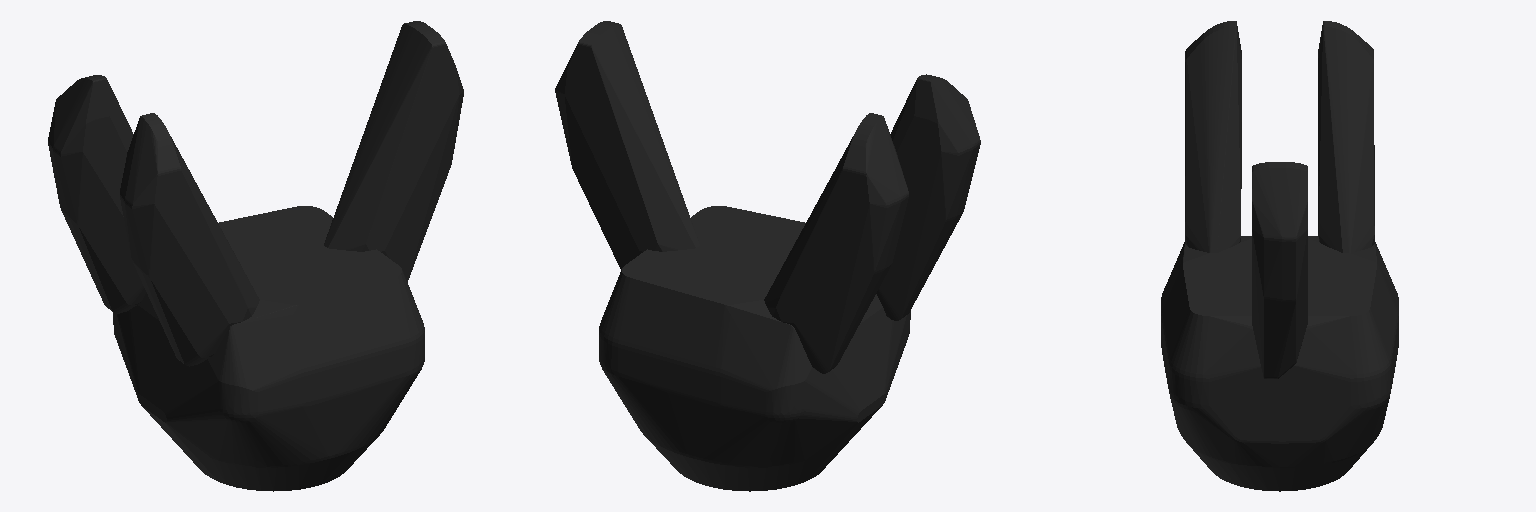
The robot description file, URDF, robot "s-model_mesh":
<?xml version="1.0" ?>
<!-- =================================================================================== -->
<!-- |    This document was autogenerated by xacro from s-model_mesh.xacro             | -->
<!-- |    EDITING THIS FILE BY HAND IS NOT RECOMMENDED                                 | -->
<!-- =================================================================================== -->
<!-- NOTE: THE URDF GENERATED BY THIS FILE DOES NO WORK PROPERLY BECAUSE -->
<!-- IT INCLUDES ONLY FIXED JOINTS (WHICH ARE NOT PUBLISHED BY THE JOINT -->
<!-- STATE PUBLISHER.                                                    -->
<robot name="s-model_mesh" xmlns:xacro="http://ros.org/wiki/xacro">
  <link name="palm">
    <visual>
      <geometry>
        <mesh filename="package://robotiq_description/meshes/s-model/visual/GRIPPER_OPEN_PALM.stl"/>
      </geometry>
      <material name="black">
        <color rgba=".2 .2 .2 1"/>
      </material>
    </visual>
    <collision>
      <geometry>
        <mesh filename="package://robotiq_description/meshes/s-model/collision/GRIPPER_OPEN_PALM.stl"/>
      </geometry>
      <material name="yellow">
        <color rgba="0 1 1 1"/>
      </material>
    </collision>
  </link>
  <link name="finger_1">
    <visual>
      <geometry>
        <mesh filename="package://robotiq_description/meshes/s-model/visual/GRIPPER_OPEN_FINGER_1.stl"/>
      </geometry>
      <material name="black"/>
    </visual>
    <collision>
      <geometry>
        <mesh filename="package://robotiq_description/meshes/s-model/collision/GRIPPER_OPEN_FINGER_1.stl"/>
      </geometry>
      <material name="yellow"/>
    </collision>
  </link>
  <link name="finger_2">
    <visual>
      <geometry>
        <mesh filename="package://robotiq_description/meshes/s-model/visual/GRIPPER_OPEN_FINGER_2.stl"/>
      </geometry>
      <material name="black"/>
    </visual>
    <collision>
      <geometry>
        <mesh filename="package://robotiq_description/meshes/s-model/collision/GRIPPER_OPEN_FINGER_2.stl"/>
      </geometry>
      <material name="yellow"/>
    </collision>
  </link>
  <link name="finger_3">
    <visual>
      <geometry>
        <mesh filename="package://robotiq_description/meshes/s-model/visual/GRIPPER_OPEN_FINGER_3.stl"/>
      </geometry>
      <material name="black"/>
    </visual>
    <collision>
      <geometry>
        <mesh filename="package://robotiq_description/meshes/s-model/collision/GRIPPER_OPEN_FINGER_3.stl"/>
      </geometry>
      <material name="yellow"/>
    </collision>
  </link>
  <joint name="joint_1" type="fixed">
    <parent link="palm"/>
    <child link="finger_1"/>
    <origin rpy="0 0 0" xyz="0 0 0"/>
  </joint>
  <joint name="joint_2" type="fixed">
    <parent link="palm"/>
    <child link="finger_2"/>
    <origin rpy="0 0 0" xyz="0 0 0"/>
  </joint>
  <joint name="joint_3" type="fixed">
    <parent link="palm"/>
    <child link="finger_3"/>
    <origin rpy="0 0 0" xyz="0 0 0"/>
  </joint>
</robot>

--- Render facts (derived) ---
Views: 3 orthographic renders of the robot side by side, from view 1: azimuth 30°, elevation 25°; view 2: azimuth 150°, elevation 25°; view 3: azimuth 270°, elevation 25°.
Model s-model_mesh with 4 links and 3 joints (3 fixed), rooted at palm, posed all joints at 0.
Links seen in each view (by area): view 1: palm, finger_2, finger_3, finger_1; view 2: palm, finger_2, finger_1, finger_3; view 3: palm, finger_3, finger_1, finger_2.
Link boxes in pixels (x1,y1,x2,y2): palm: (113,206,424,491); finger_2: (324,21,463,281); finger_3: (120,113,259,366); finger_1: (48,75,146,313); palm: (599,206,910,491); finger_2: (555,21,699,269); finger_1: (764,113,908,373); finger_3: (876,74,980,320); palm: (1161,236,1398,491); finger_3: (1185,21,1241,252); finger_1: (1318,21,1374,252); finger_2: (1252,162,1307,378).
Size in the robot's own frame: 0.2181 by 0.1302 by 0.2228 metres.
Meshes: 4 distinct files referenced, 4 mesh visuals loaded (4 binary STL).